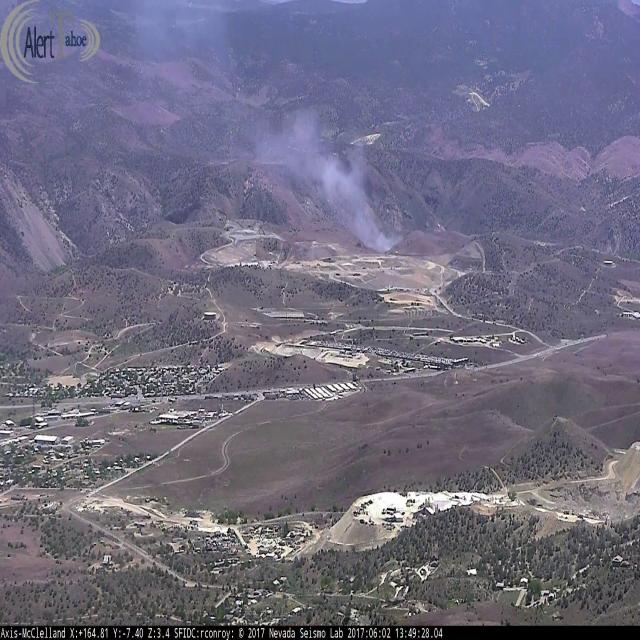smoke: (190, 36, 412, 257)
